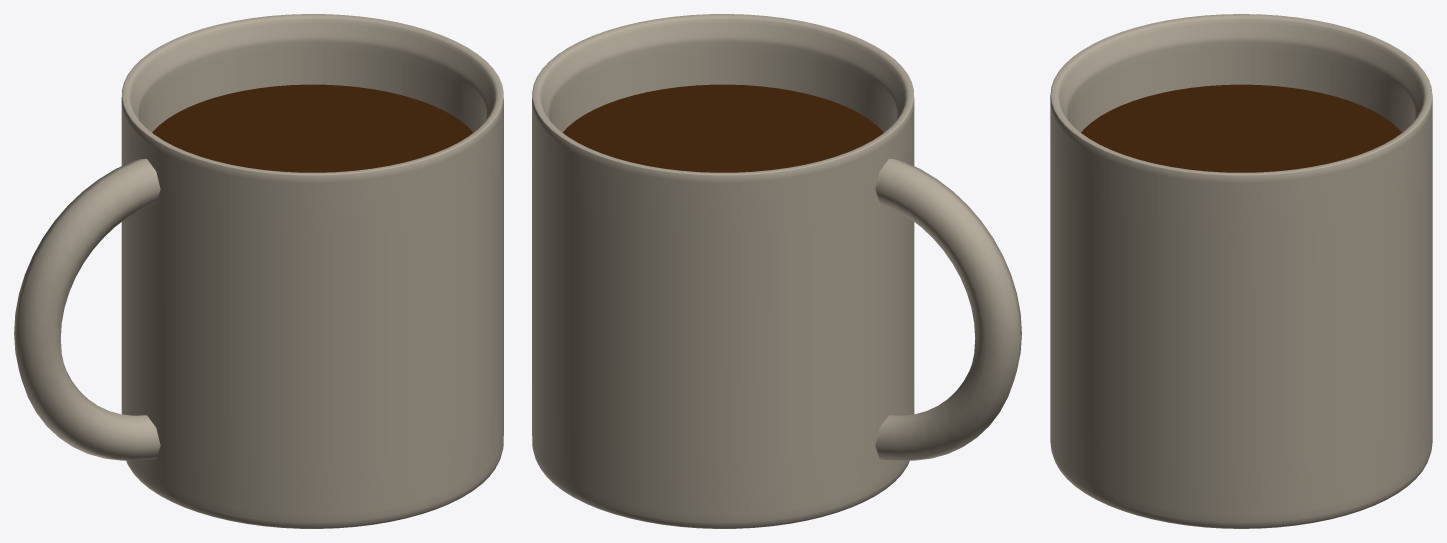
Rendered from MugFilled.fbx.
3 views of the same model, side by side, from view 1: azimuth 30°, elevation 25°; view 2: azimuth 150°, elevation 25°; view 3: azimuth 270°, elevation 25° (orthographic).
Parts seen in each view (by area): view 1: FilledMug, Coffee, Handle.001; view 2: FilledMug, Coffee, Handle.001; view 3: FilledMug, Coffee.
Boxes of the visible parts, <box> form: FilledMug: <box>121,14,503,528</box>; Coffee: <box>152,84,473,172</box>; Handle.001: <box>14,159,160,460</box>; FilledMug: <box>532,14,914,528</box>; Coffee: <box>562,84,883,172</box>; Handle.001: <box>875,159,1021,460</box>; FilledMug: <box>1050,14,1432,528</box>; Coffee: <box>1081,84,1401,172</box>.
Bounding box in the file's own units: 277 × 204 × 199.
